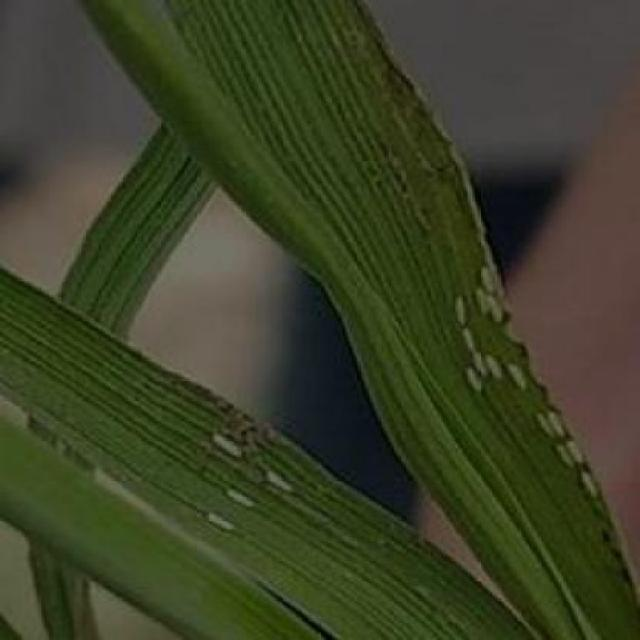whorl-maggot: (190, 505, 244, 543), (217, 474, 266, 512), (200, 429, 251, 465), (496, 360, 538, 391), (260, 464, 297, 496), (474, 265, 506, 297), (562, 434, 588, 472), (454, 360, 483, 394), (574, 469, 608, 497), (446, 290, 469, 328), (530, 412, 556, 443), (460, 329, 483, 362)
